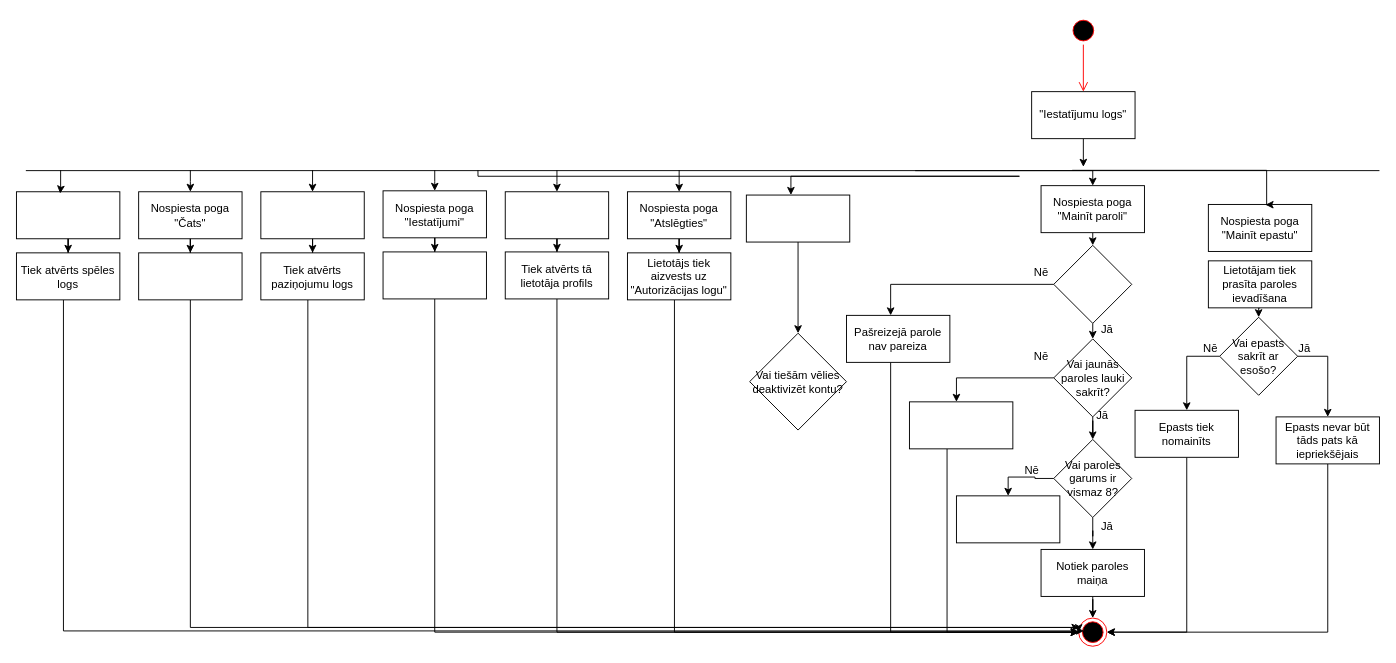
Image size: 1396x663. Some labels were removed from this diagram. The centre of each missing label's shape, as x and y in pixels:
"Paroles nesakrīt!": pixel 961 425
Nospiesta poga "Deaktivizēt kontu": pixel 797 218
Nospiesta poga "Paziņojumi": pixel 312 215
Nospiesta poga "Spēles": pixel 68 215
Nospiests konkrēts lietotājs: pixel 556 215
Paroles garums ir jābut vismaz 8: pixel 1008 519
Tiek atvērts iestatījuma logs: pixel 434 275
Tiek atvērts čats: pixel 190 276
Vai esošā parole ir pareiza?: pixel 1092 283
